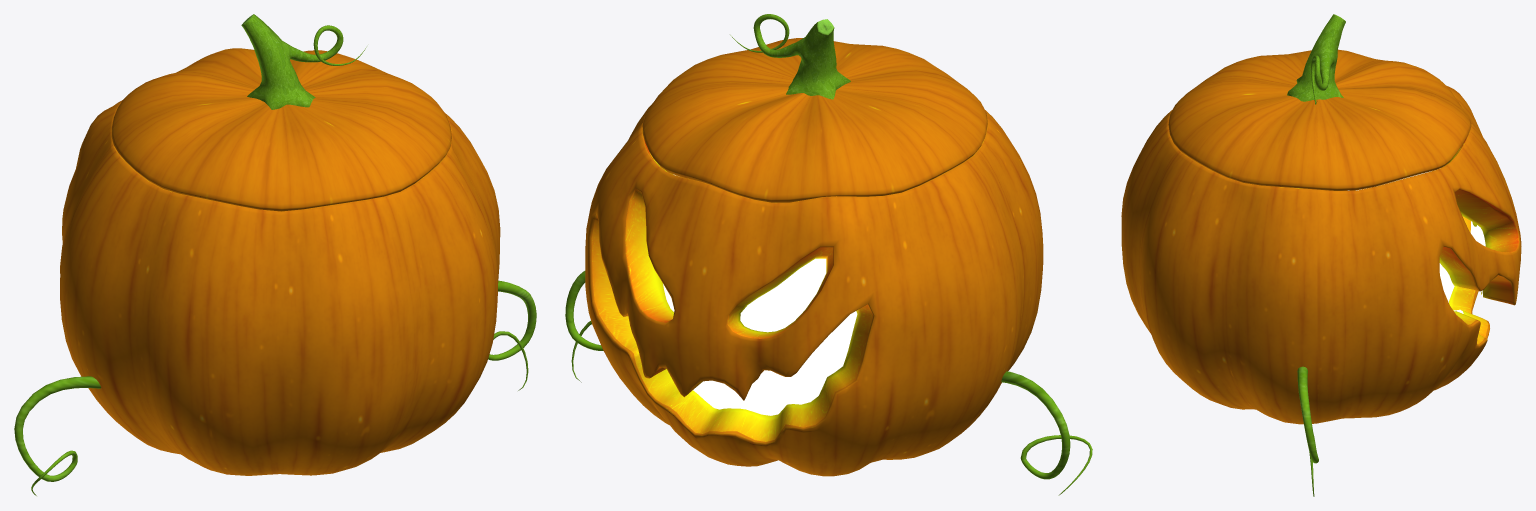
Rendered from jack-o-lantern.turbosquid.1133394.fbx.
3 views of the same model, side by side, from view 1: azimuth 30°, elevation 25°; view 2: azimuth 150°, elevation 25°; view 3: azimuth 270°, elevation 25° (orthographic). The views are drawn at different scales.
Parts seen in each view (by area): view 1: head, top, stem, roots; view 2: head, top, stem, roots; view 3: head, top, stem, roots.
Part boxes in pixels (x1,y1,x2,y2): head: (60,100,500,475); top: (111,48,451,211); stem: (241,14,366,109); roots: (14,280,536,495); head: (585,103,1043,476); top: (642,38,987,202); stem: (730,14,850,99); roots: (565,271,1092,495); head: (1121,85,1521,424); top: (1168,49,1471,190); stem: (1287,14,1345,104); roots: (1297,366,1318,496).
Bounding box in the file's own units: 440 × 354 × 343.
4 materials, 4 textured.
